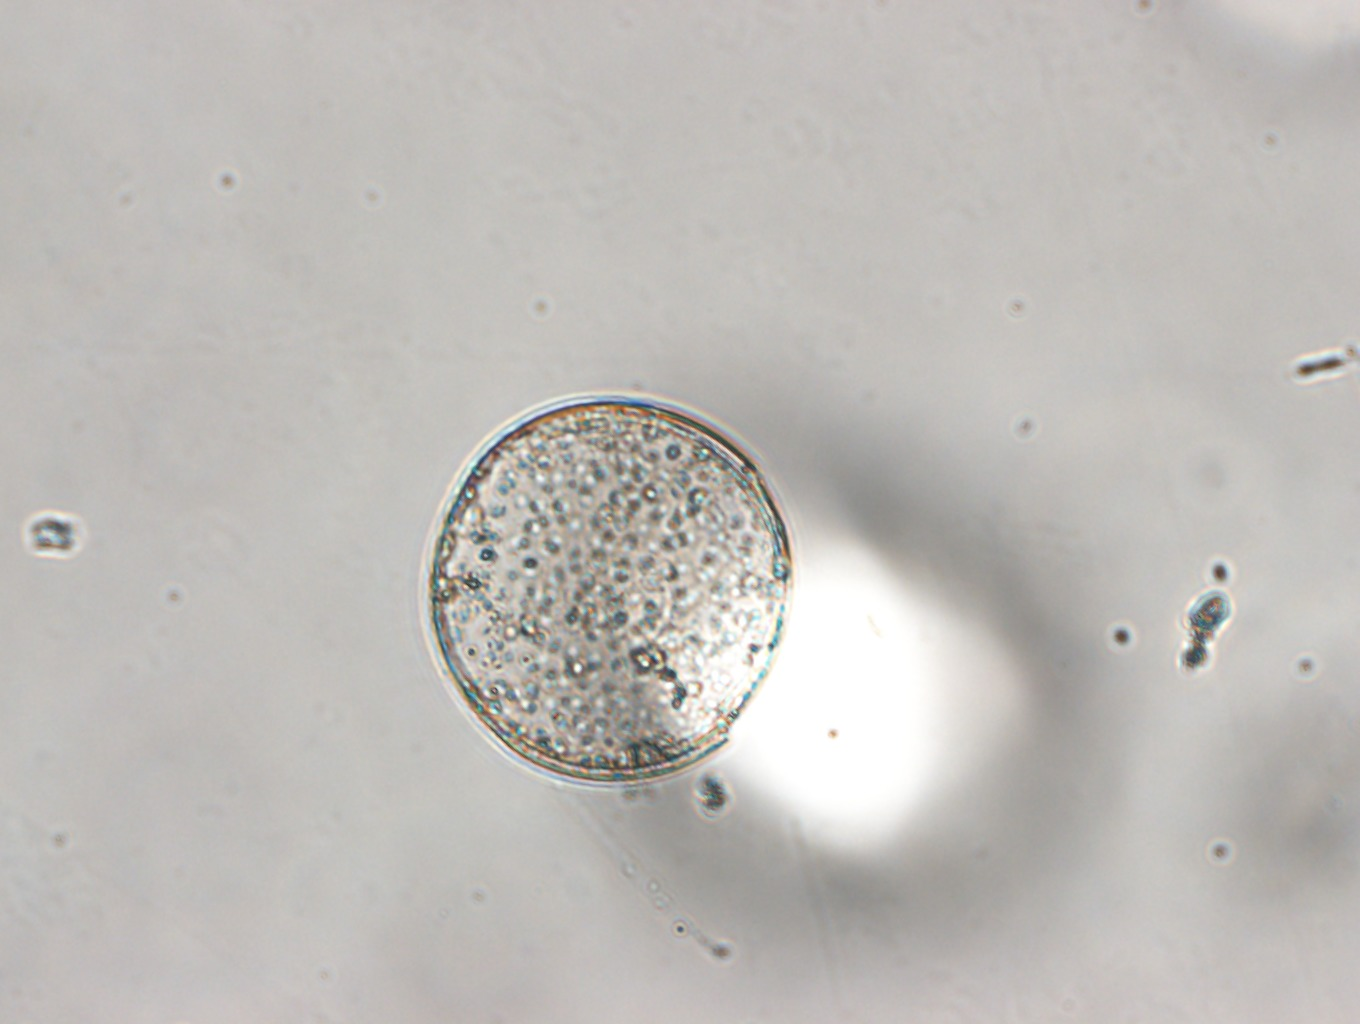coscinodiscus: (413, 392, 800, 792)
